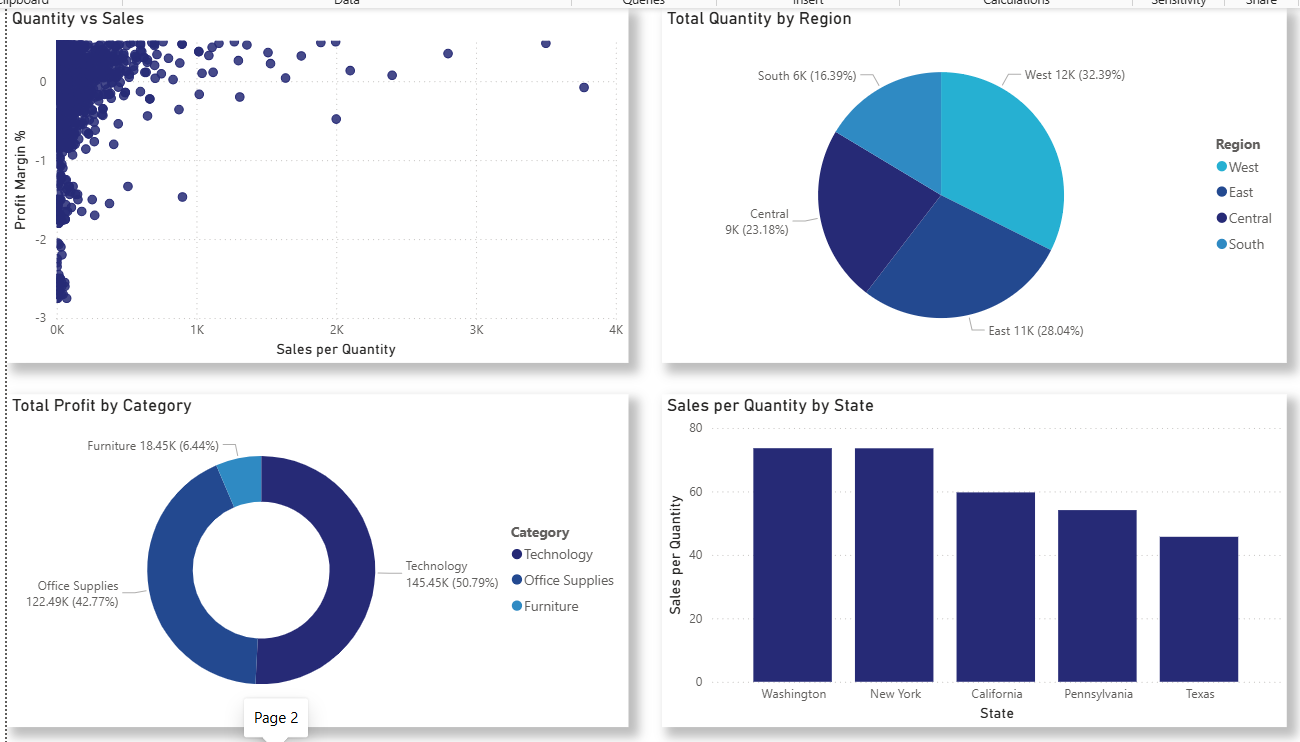

The dashboard page shown, as its layout file describes it:
{"tool":"powerbi","page":{"name":"Page 2","canvas":[1280,720],"ordinal":1},"visuals":[{"type":"donutChart","fields":{"Y":["Sum(Orders.Profit)"],"Category":["Orders.Category"]},"box":[0,377.9,607.7,325.3],"z":0},{"type":"scatterChart","title":"Quantity vs  Sales","fields":{"Category":["Orders.Profit"],"Y":["Orders.Profit Margin %"],"X":["Orders.Sales per Quantity"]},"box":[0,0,607.7,347.3],"z":1000},{"type":"columnChart","fields":{"Y":["Orders.Sales per Quantity"],"Category":["Orders.State"]},"box":[640.8,377.9,611.4,325.3],"z":2000},{"type":"pieChart","fields":{"Category":["Orders.Region"],"Y":["Sum(Orders.Quantity)"]},"box":[640.8,0,611.4,347.3],"z":3000}]}

Visuals, with their boxes on the page's 1280x720 design canvas (x1, y1, x2, y2). These are canvas units, not pixel positions in the 1300x742 screenshot, which may show the page scaled, cropped or inside an application window:
donutChart - Sum(Orders.Profit) x Orders.Category: [left=0, top=378, right=608, bottom=703]
"Quantity vs  Sales" scatterChart: [left=0, top=0, right=608, bottom=347]
columnChart - Orders.Sales per Quantity x Orders.State: [left=641, top=378, right=1252, bottom=703]
pieChart - Orders.Region x Sum(Orders.Quantity): [left=641, top=0, right=1252, bottom=347]
